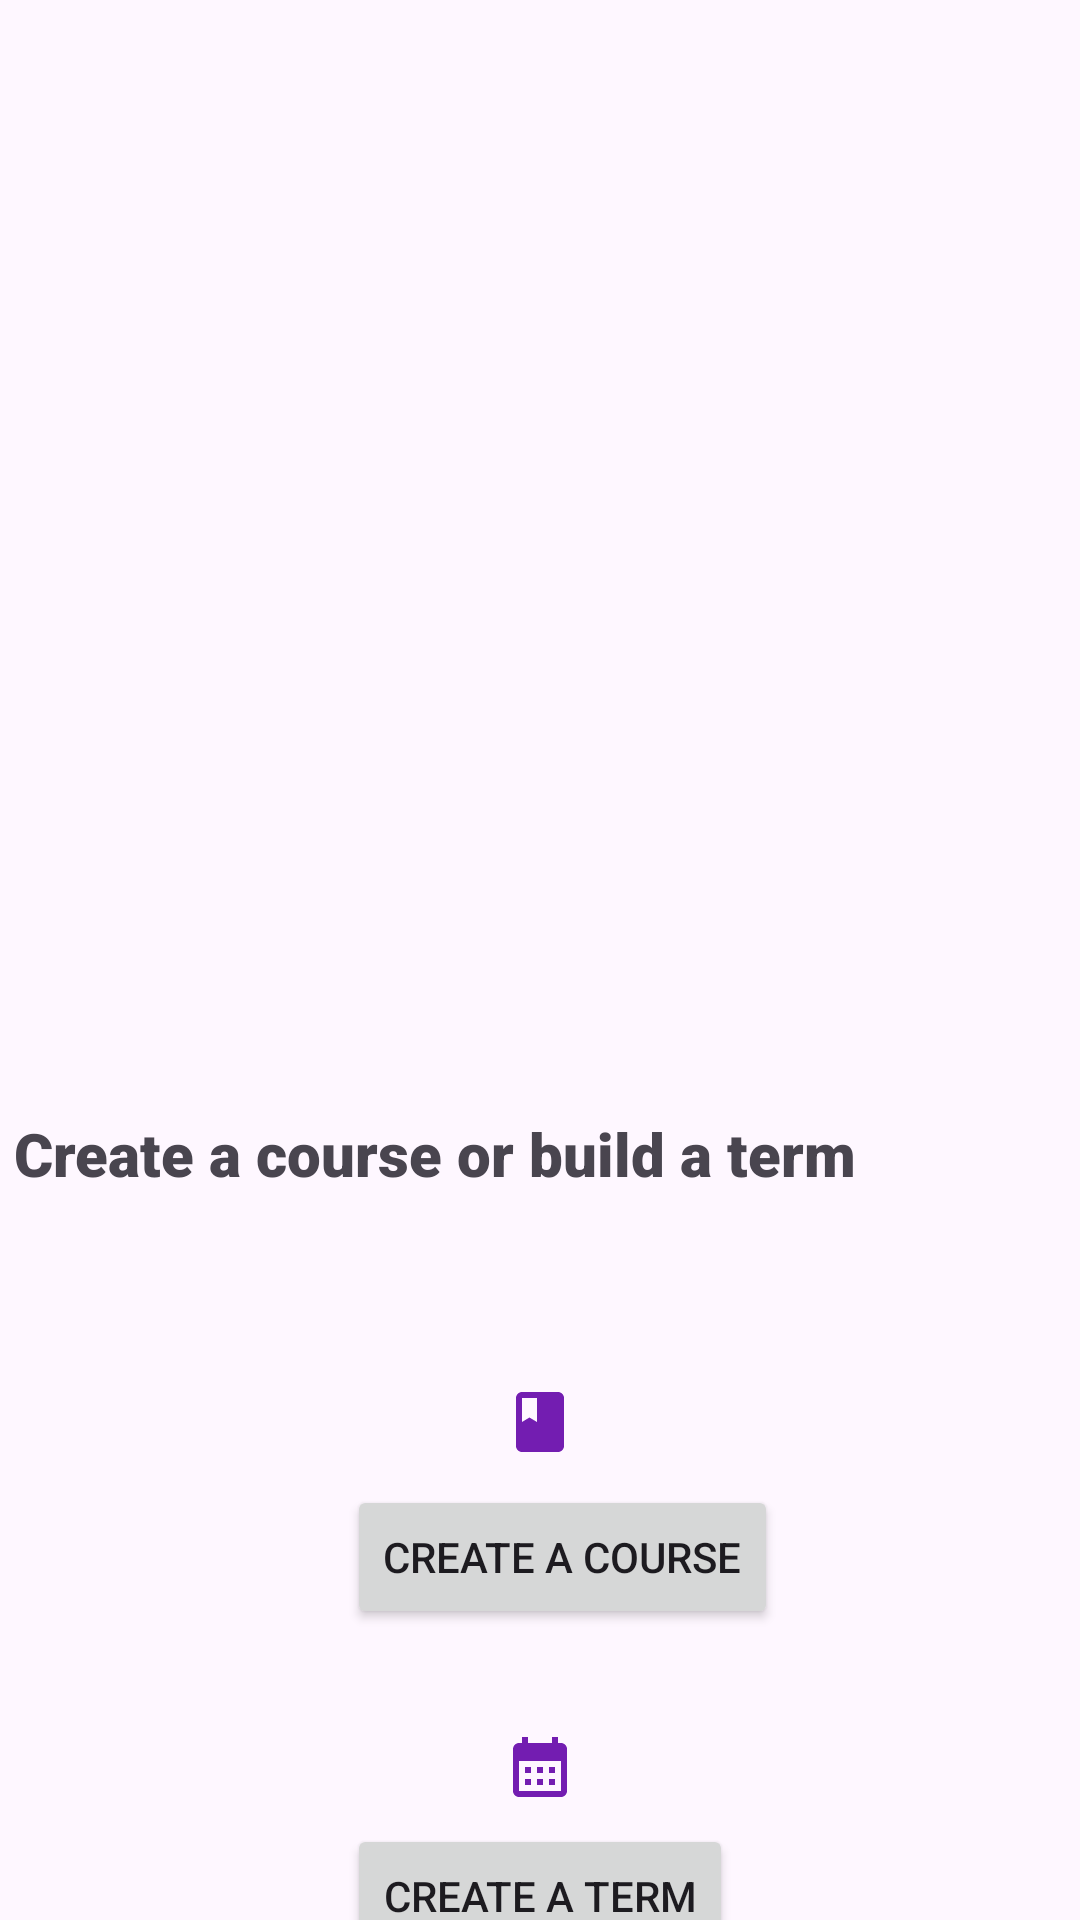

Locate icon controls on the screen. Image size 1080×1920, boxes as (x1, y1, x2, y2).
calendar month: (513, 1737, 567, 1797)
